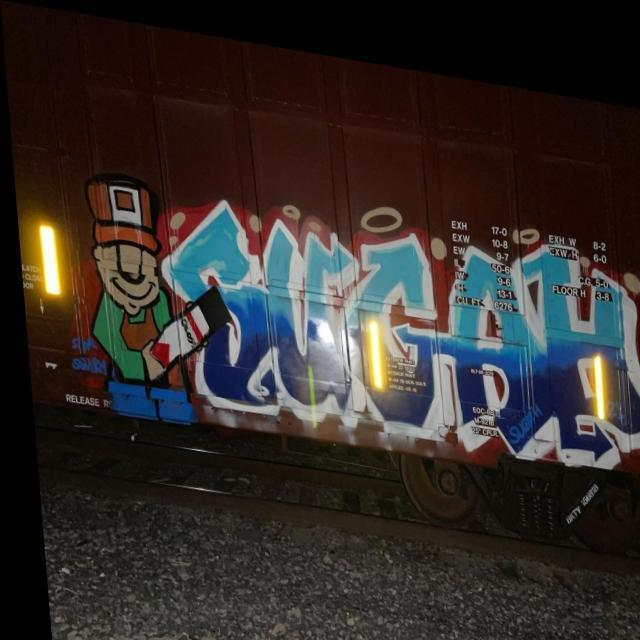-: (154, 161, 640, 463), (70, 170, 193, 427), (62, 328, 104, 381)
